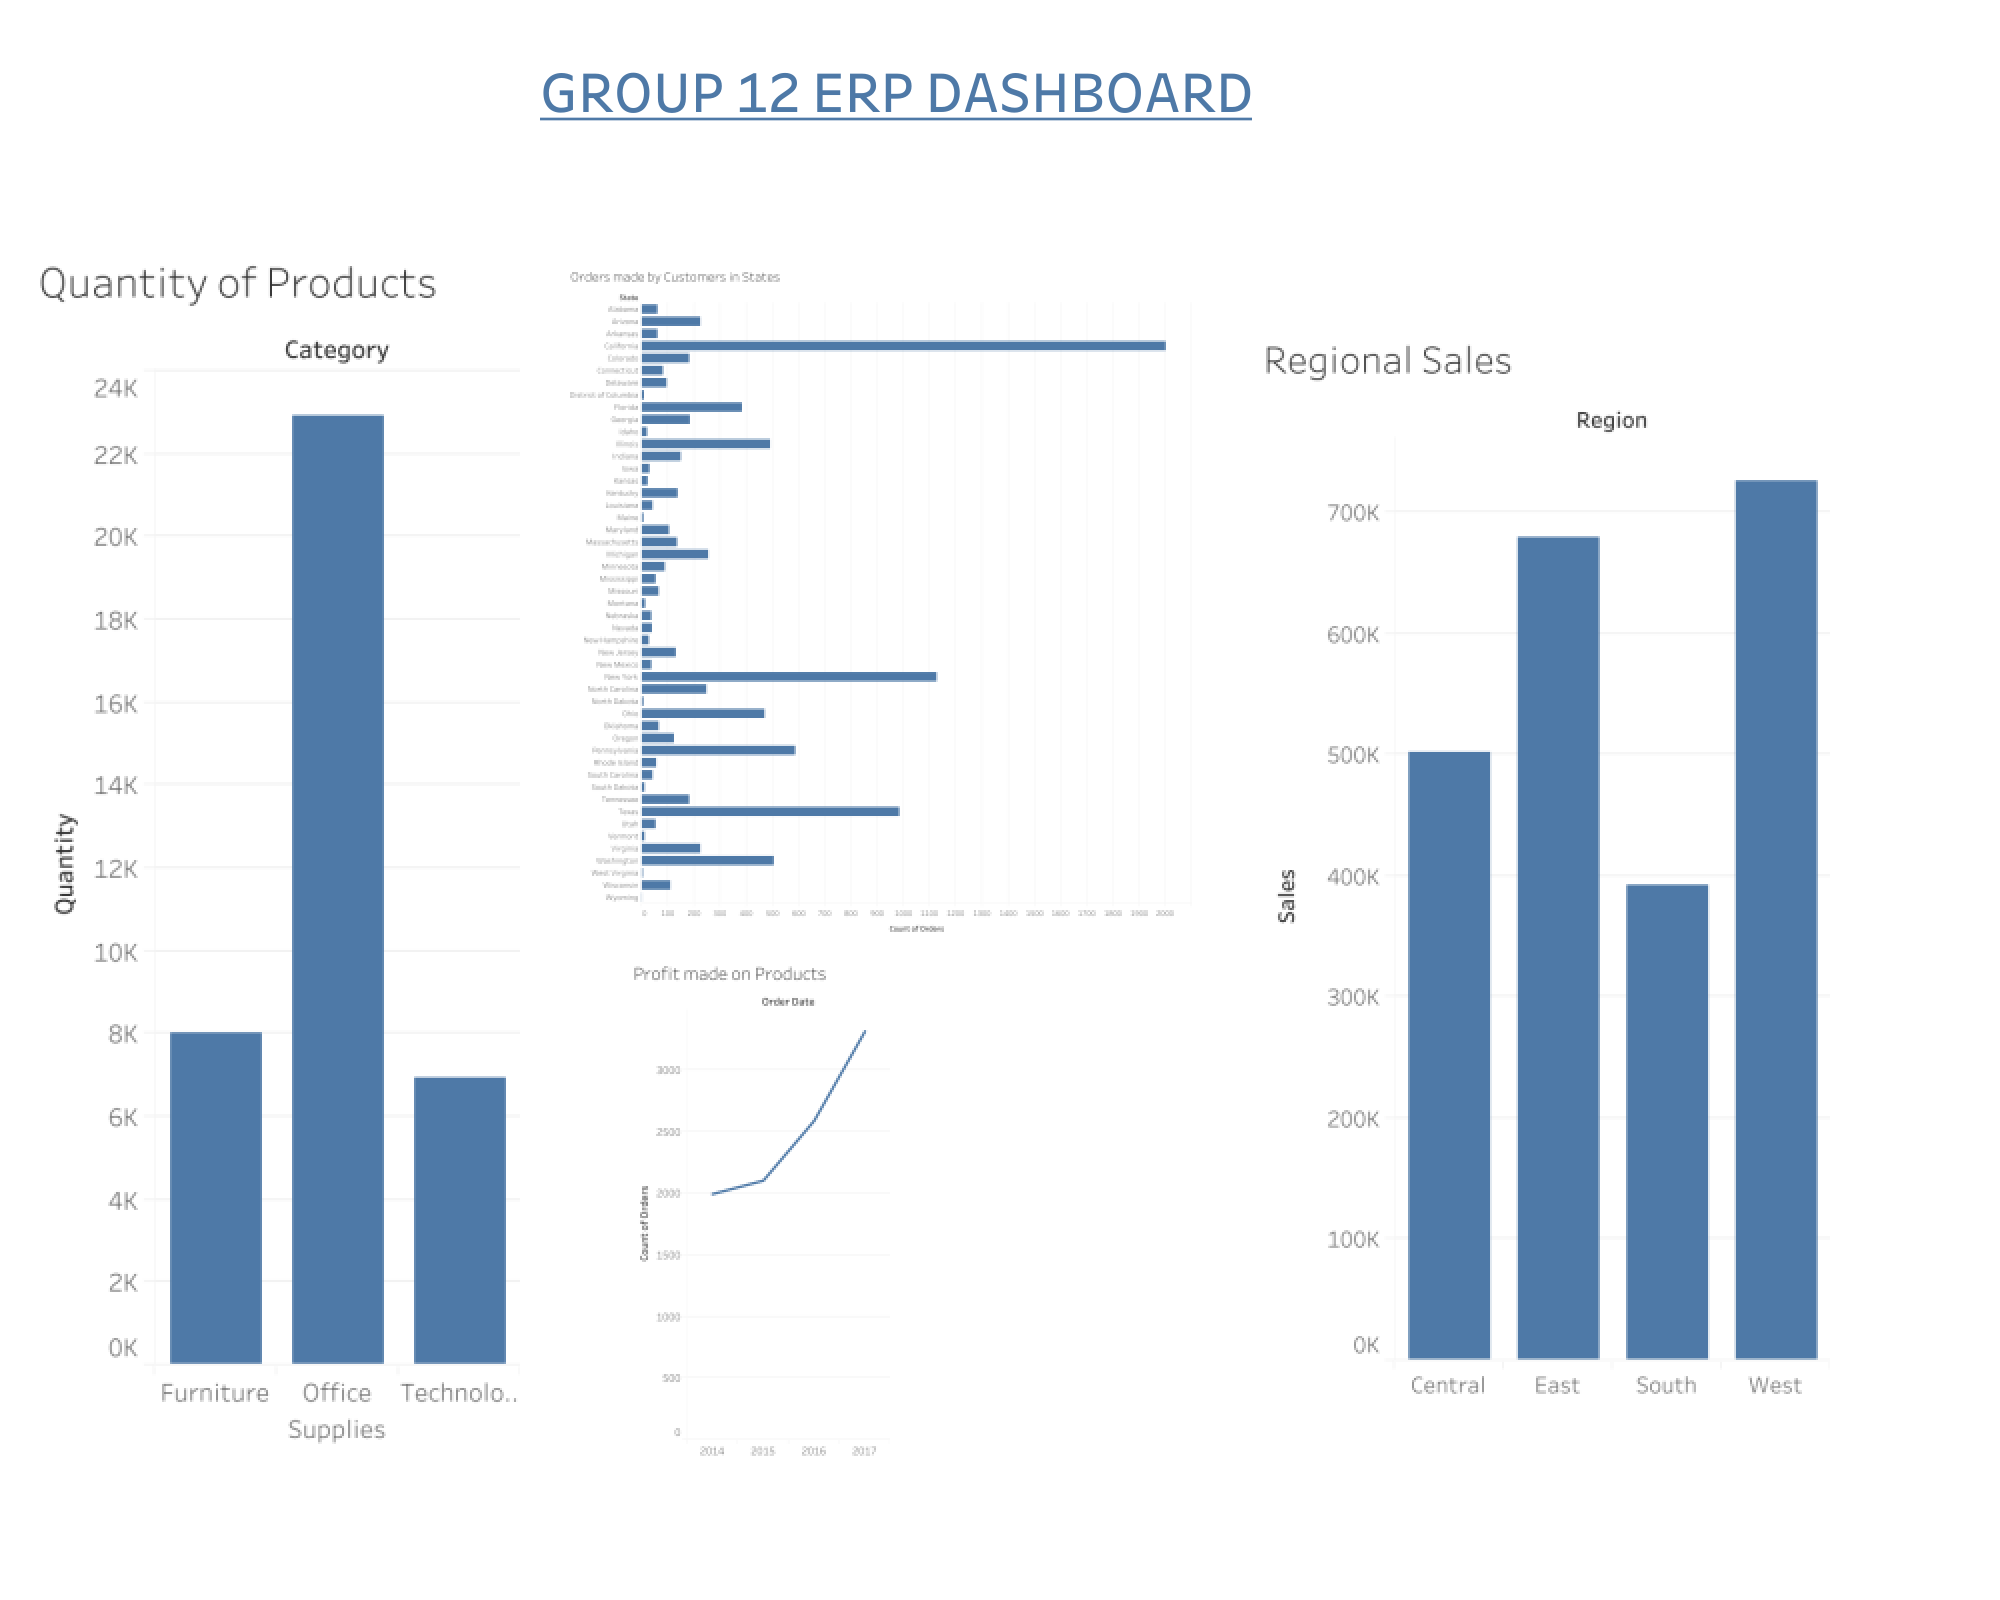

The dashboard page shown, as its layout file describes it:
{"tool":"tableau","page":{"name":"Dashboard 1","canvas":[1000,800],"ordinal":0},"visuals":[{"type":"text","box":[231,11,435,67]},{"type":"image","param":"Image/Sheet 1 (6).png","box":[15,120,262,603]},{"type":"image","param":"Image/Sheet 1 (9).png","box":[284,132,329,337]},{"type":"image","param":"Image/Sheet 1 (17).png","box":[628,161,333,539]},{"type":"image","param":"Image/Sheet 1 (13).png","box":[315,478,385,251]}]}

Visuals, with their boxes in screenshot pixels (x1, y1, x2, y2), scaled from the page's 1000x800 canvas onto the 2000x1600 screenshot:
text: 462/22/1332/156
image: 30/240/554/1446
image: 568/264/1226/938
image: 1256/322/1922/1400
image: 630/956/1400/1458
